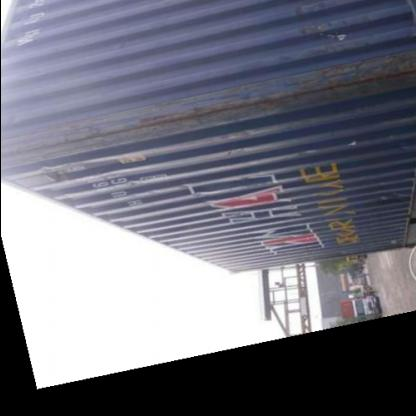Damage: (11, 66, 399, 192)
